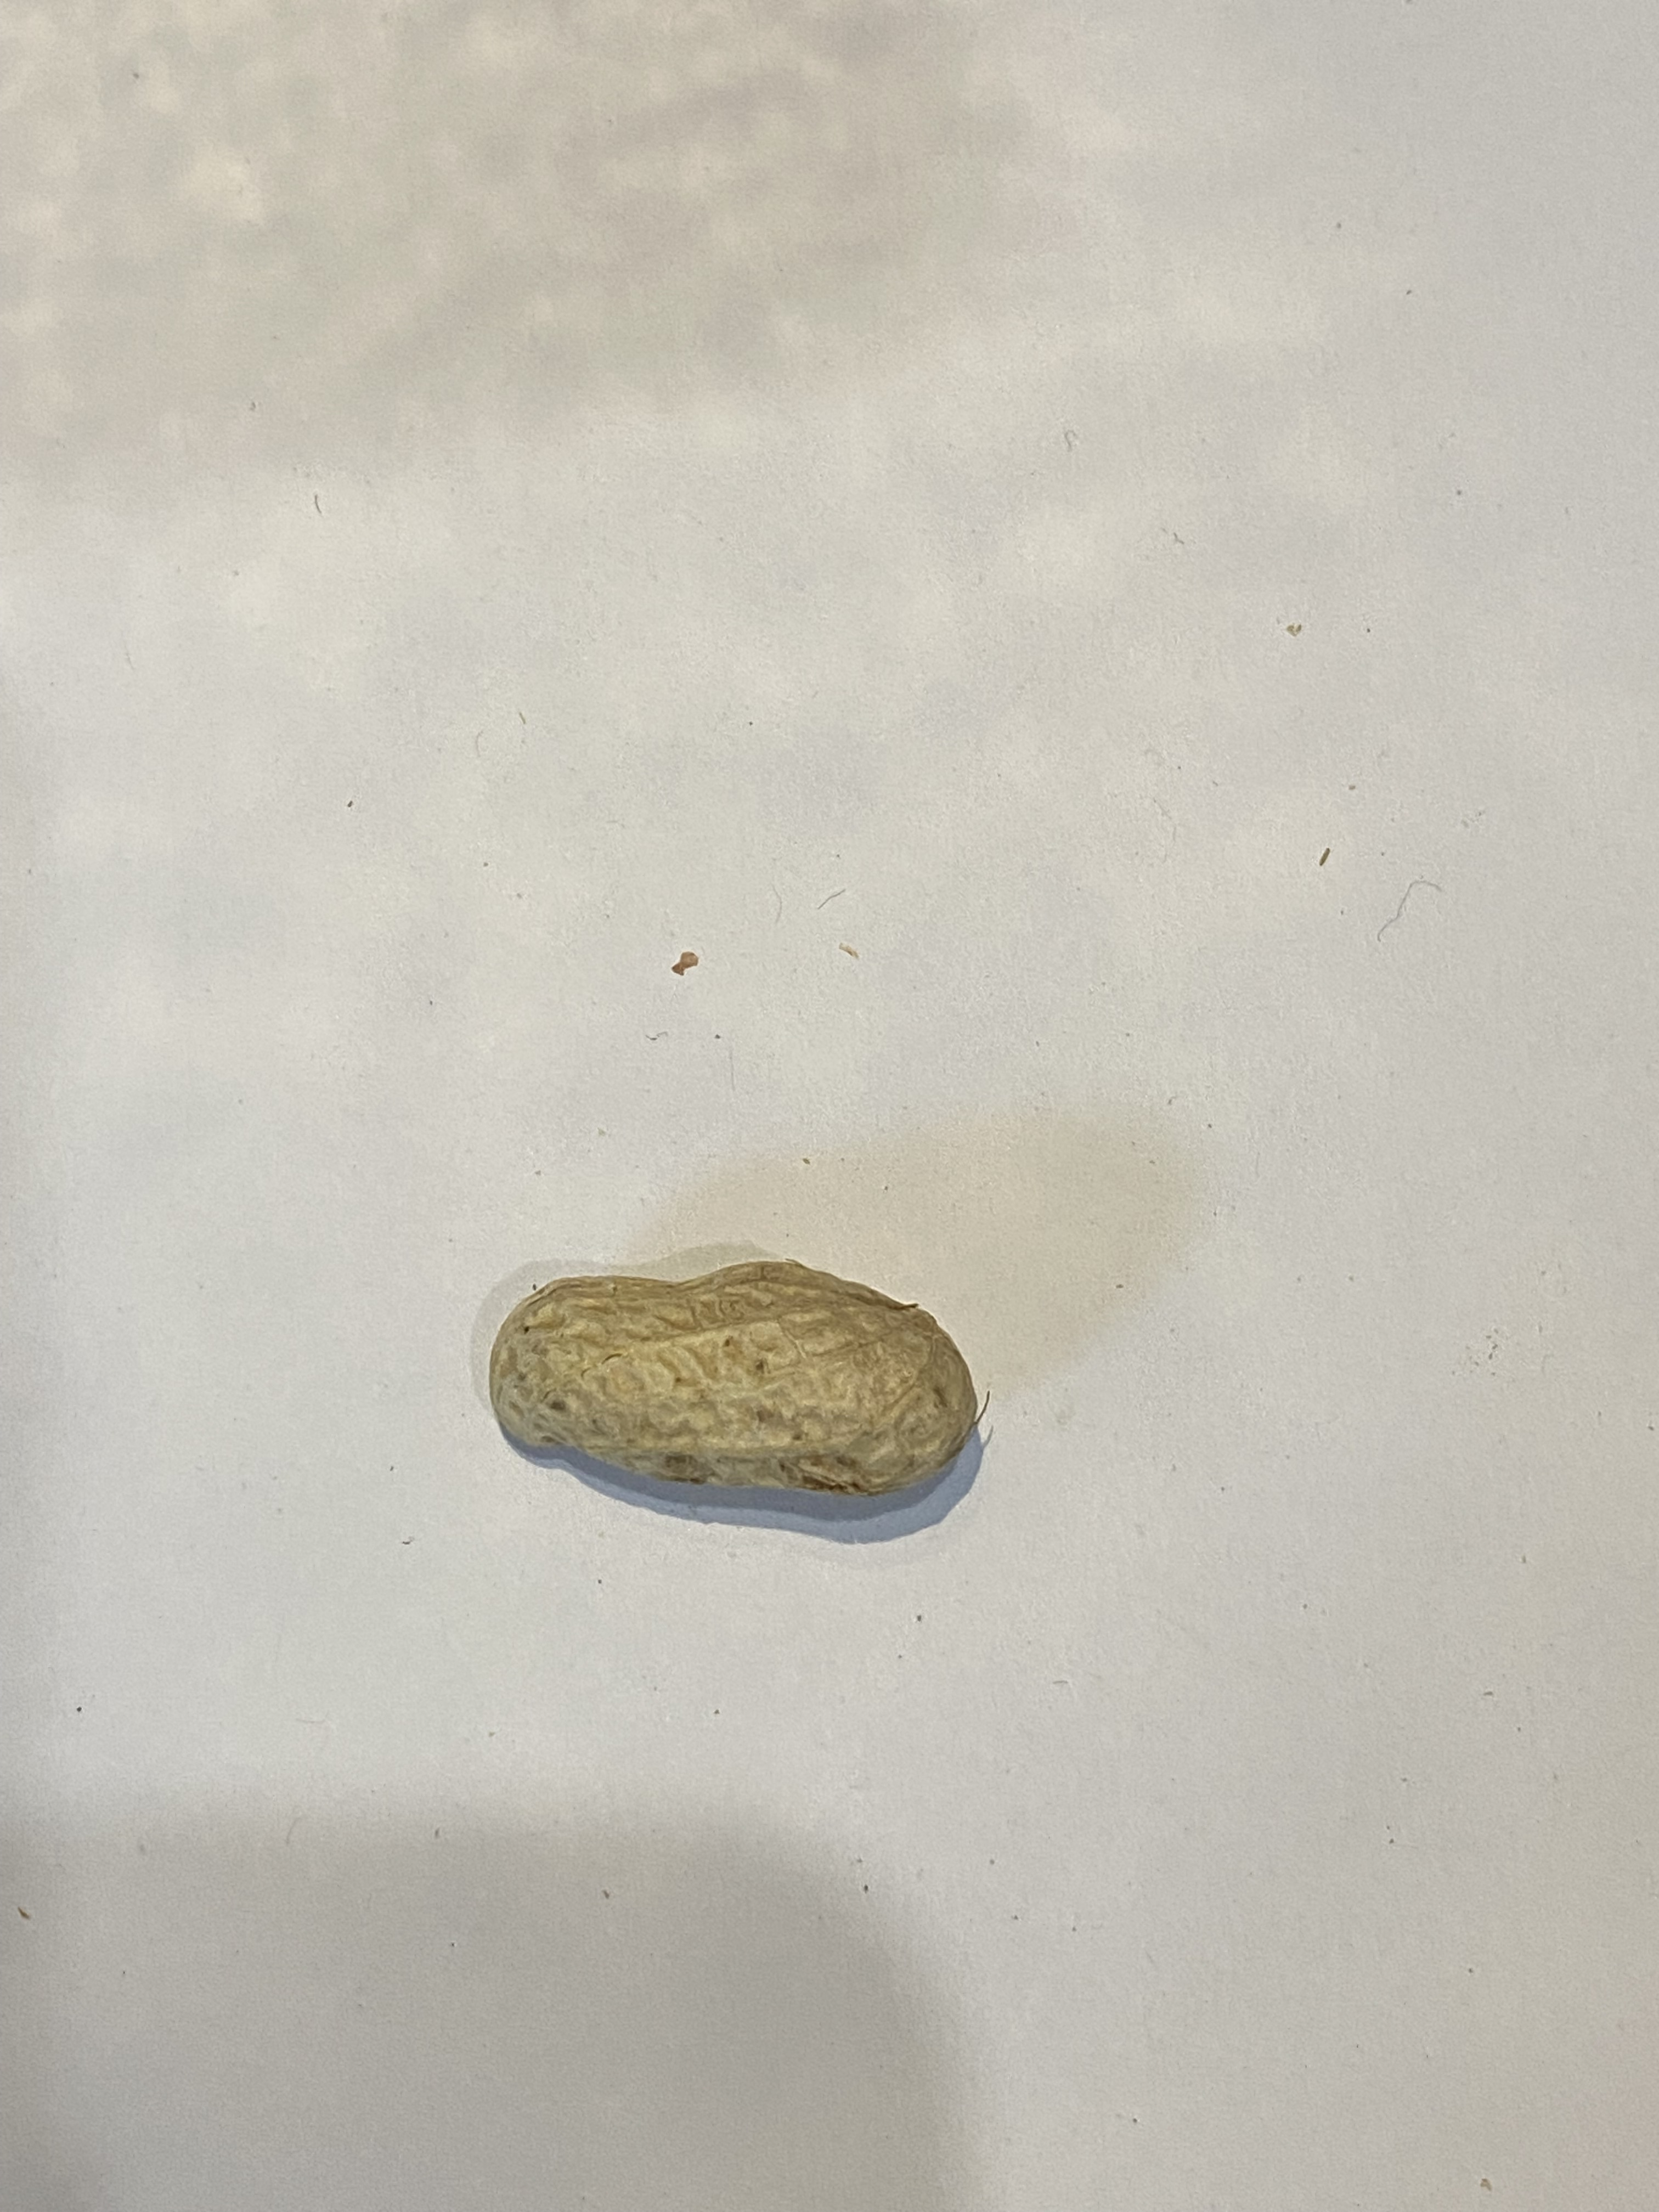kacang2: (450, 1254, 1073, 1521)
